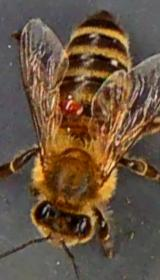varroa_mite: (58, 94, 88, 118)
